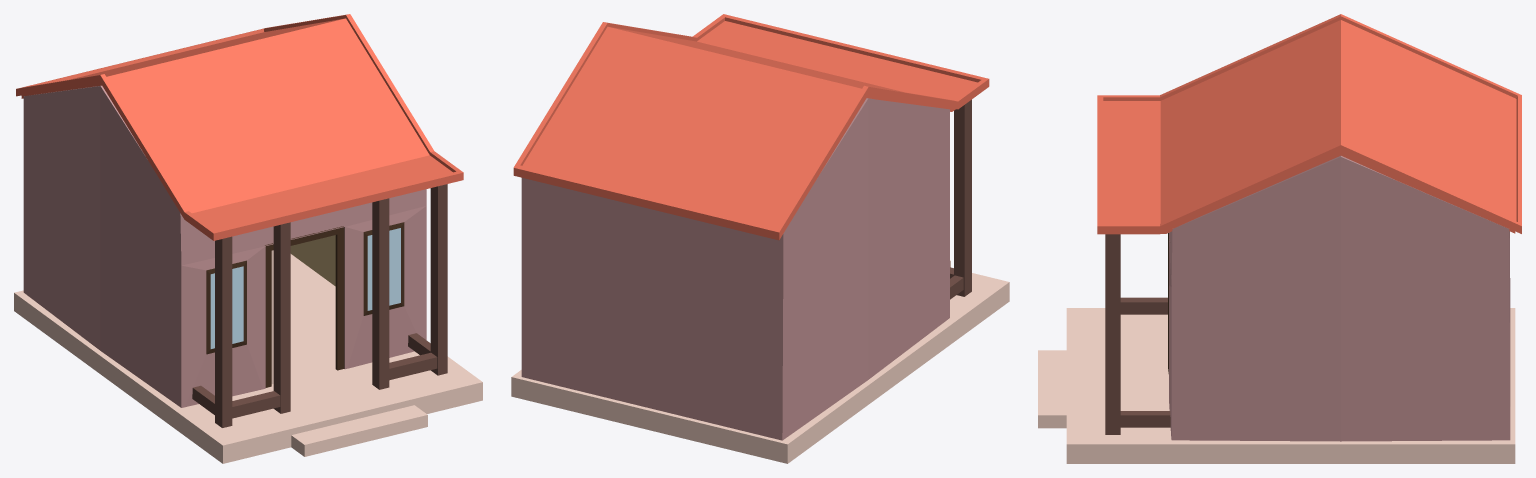
The model's file is REMAKE_pantry_2.fbx.
The picture shows the model from 3 angles, left to right: view 1: azimuth 30°, elevation 25°; view 2: azimuth 150°, elevation 25°; view 3: azimuth 270°, elevation 25°; orthographic projection. The views are drawn at different scales.
Visible parts, largest first — view 1: pantry.001; view 2: pantry.001; view 3: pantry.001.
Boxes of the visible parts, bbox=[...] form: pantry.001: bbox=[14, 14, 482, 463]; pantry.001: bbox=[511, 14, 1009, 463]; pantry.001: bbox=[1038, 14, 1521, 463].
Size of the model in its own units: 400 by 433 by 600.
